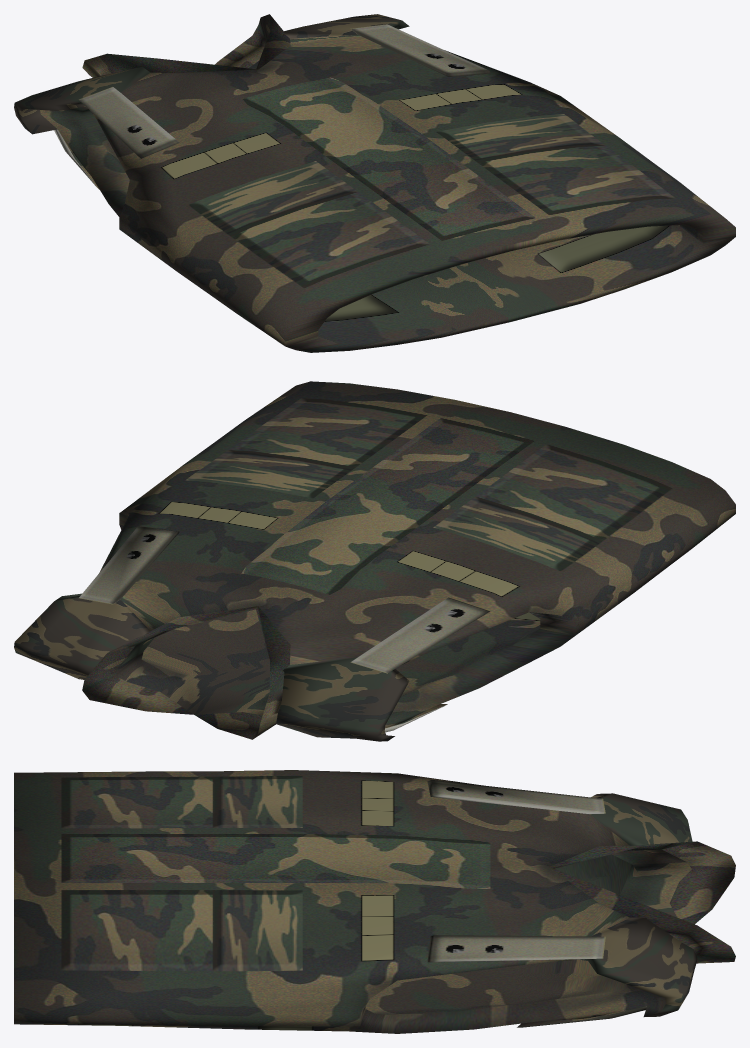
Rendered from PASGTVest_WorldItem.fbx.
The picture shows the model from 3 angles, top to bottom: view 1: azimuth 30°, elevation 25°; view 2: azimuth 150°, elevation 25°; view 3: azimuth 270°, elevation 25°; orthographic projection. The views are drawn at different scales.
Parts seen in each view (by area): view 1: Circle_Circle.001; view 2: Circle_Circle.001; view 3: Circle_Circle.001.
Part boxes in pixels (x1,y1,x2,y2): Circle_Circle.001: (14,14,735,352); Circle_Circle.001: (14,381,735,741); Circle_Circle.001: (14,770,735,1033).
Size of the model in its own units: 0.4888 by 0.09 by 0.6314.
